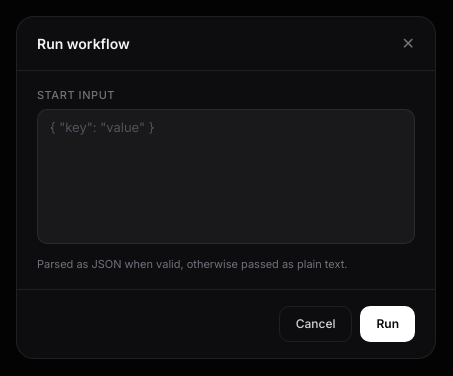
Test: RunModal › clears the Start input on Cancel so it cannot leak into the next open
This screenshot has width=453, height=376.
Type "previous run input" into the text box at (226, 176), box left=37, top=109, right=415, bottom=244
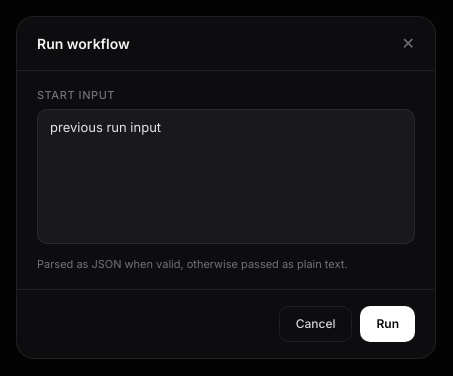
Click the button "Cancel" at (316, 324), box left=279, top=306, right=352, bottom=342
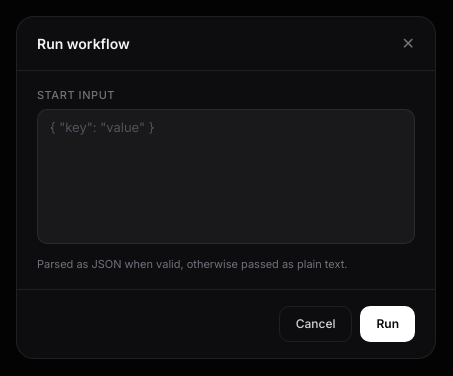
Expected: the text box is empty, left=37, top=109, right=415, bottom=244
